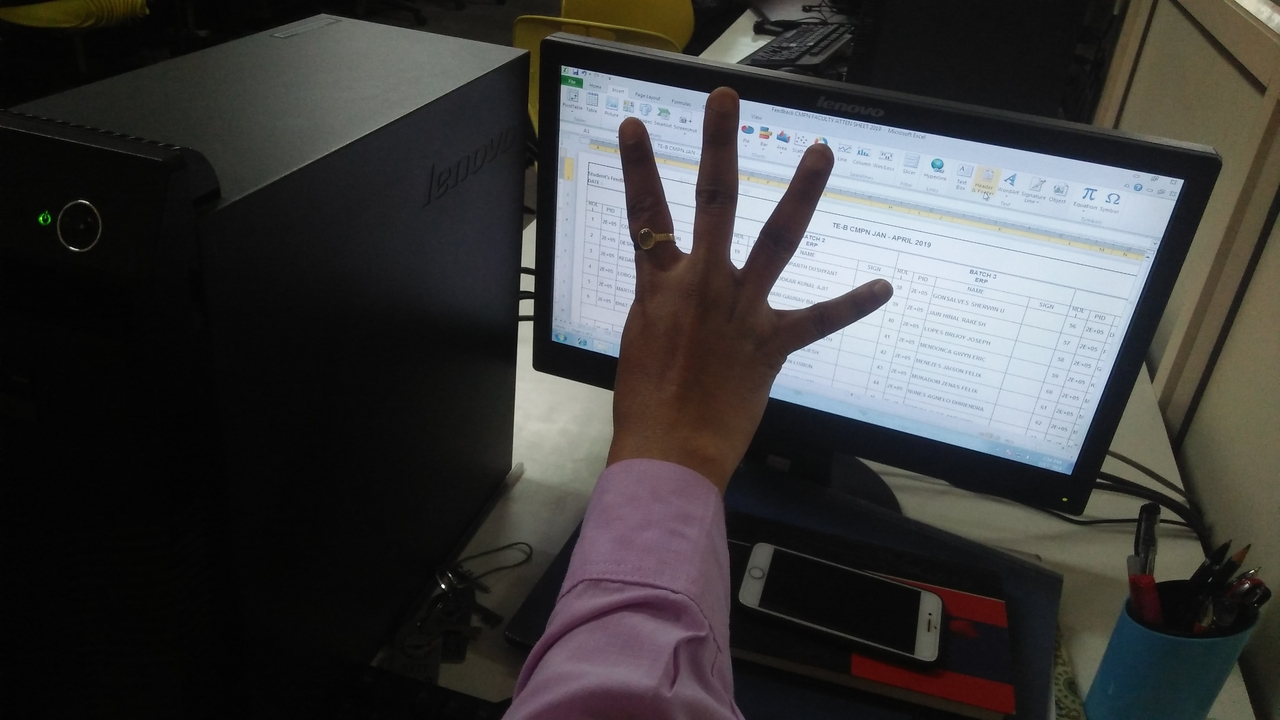fingertip: (608, 106, 660, 152), (788, 130, 842, 174), (698, 74, 748, 116), (861, 273, 896, 312)
